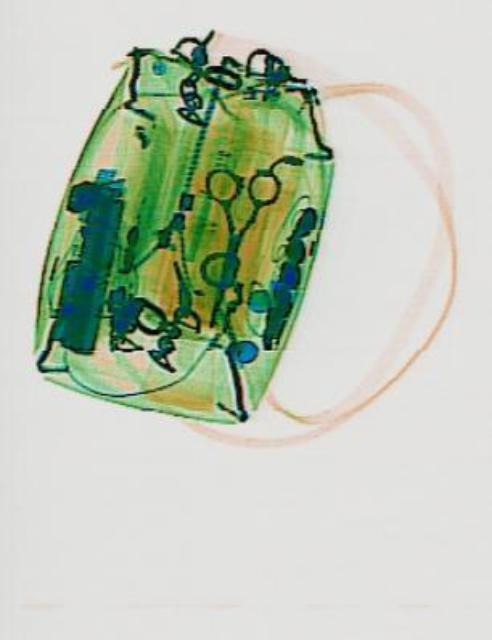Scissors: (172, 152, 278, 334)
